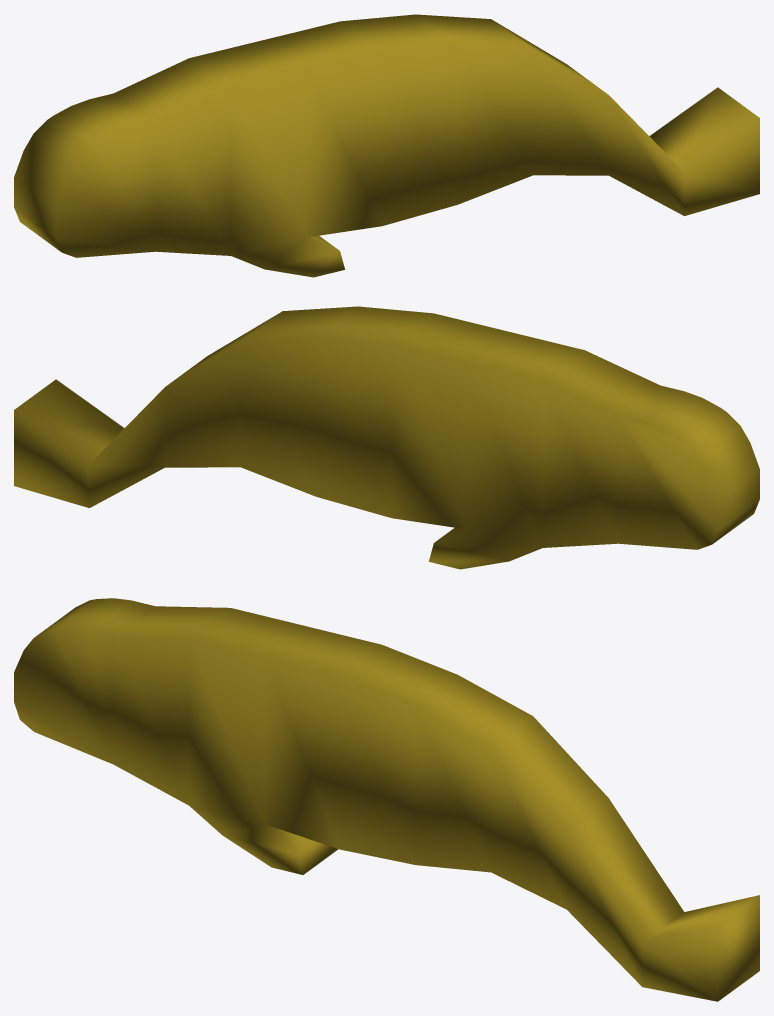
File: beluga.fbx
3 views of the same model, one above another, from view 1: azimuth 30°, elevation 25°; view 2: azimuth 150°, elevation 25°; view 3: azimuth 330°, elevation 25° (orthographic).
Parts seen in each view (by area): view 1: Beluga; view 2: Beluga; view 3: Beluga.
Boxes of the visible parts, left/top/right/bottom form: Beluga: left=14, top=14, right=759, bottom=277; Beluga: left=14, top=306, right=759, bottom=569; Beluga: left=14, top=598, right=759, bottom=1001.
Size of the model in its own units: 37.8 by 3.92 by 12.21.
